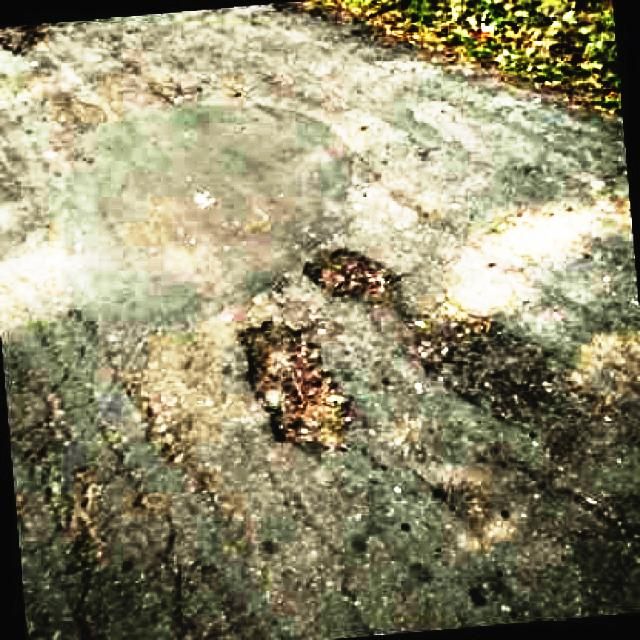pothole: (426, 306, 560, 426), (243, 325, 363, 452), (306, 242, 396, 308)
